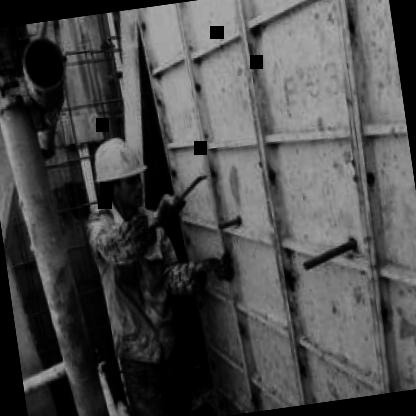helmet: (86, 128, 154, 218)
